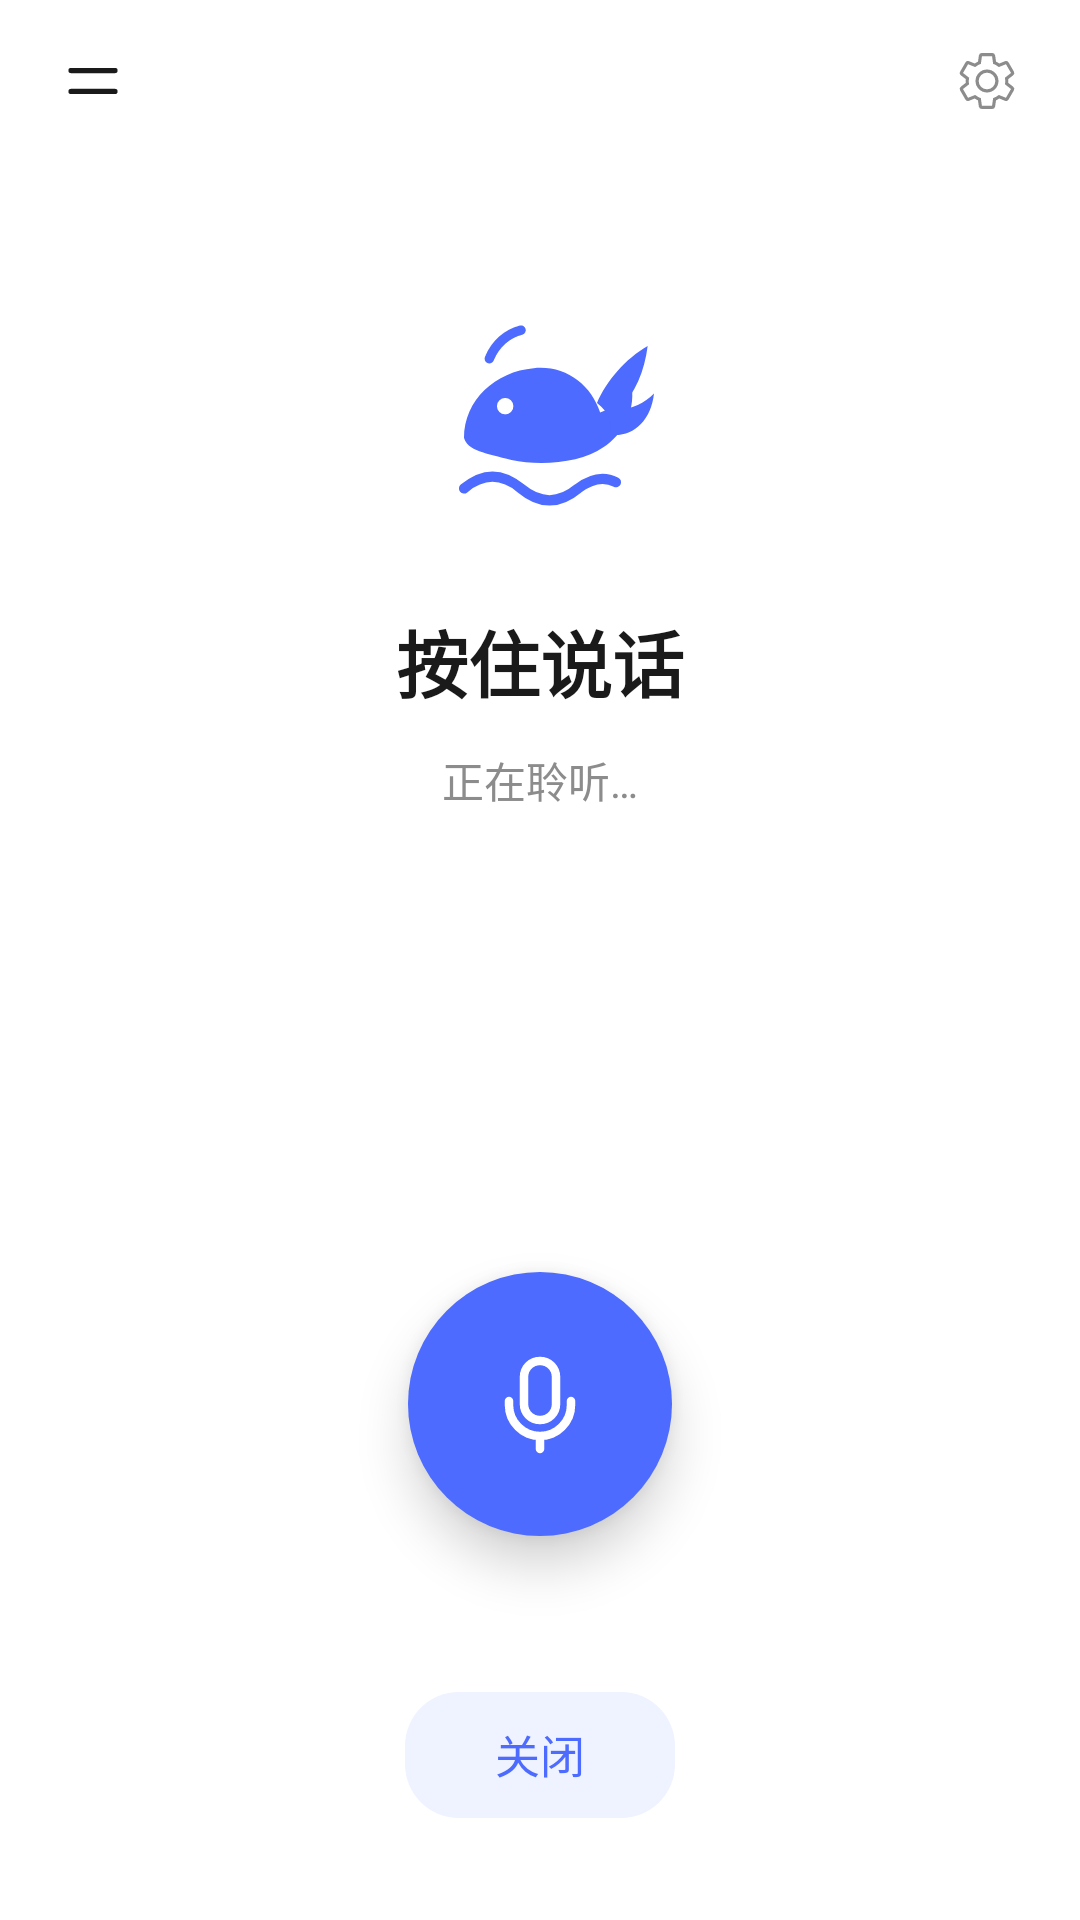

Icons on this 1080 x 1920 Android screen, each with the point to tap as (x=x, y=y):
whale: (x=556, y=415)
菜单: (x=93, y=81)
设置: (x=987, y=81)
麦克风: (x=540, y=1404)
